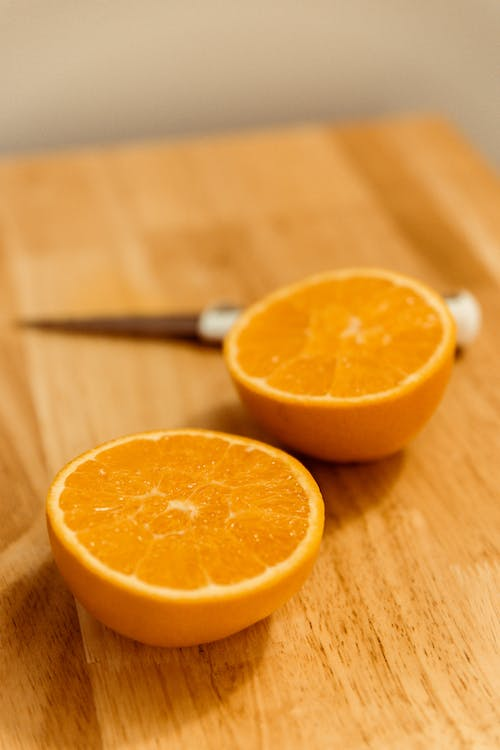knife: (14, 290, 480, 343)
